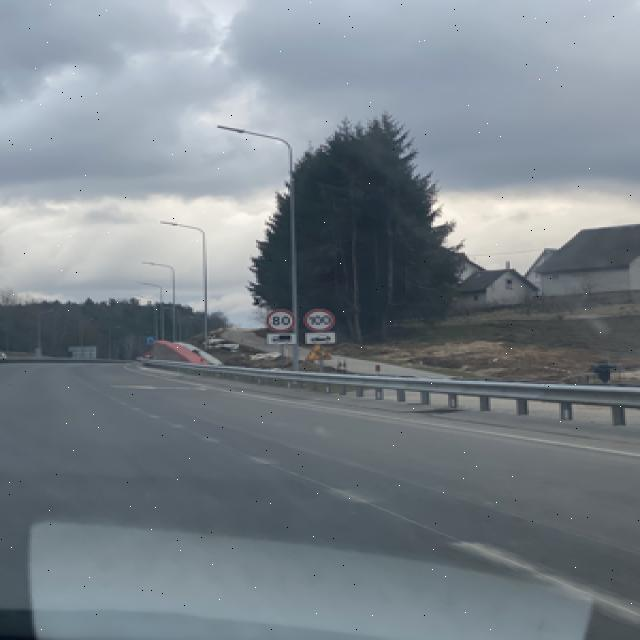Speedlimit: (299, 308, 338, 335), (264, 309, 295, 333)
